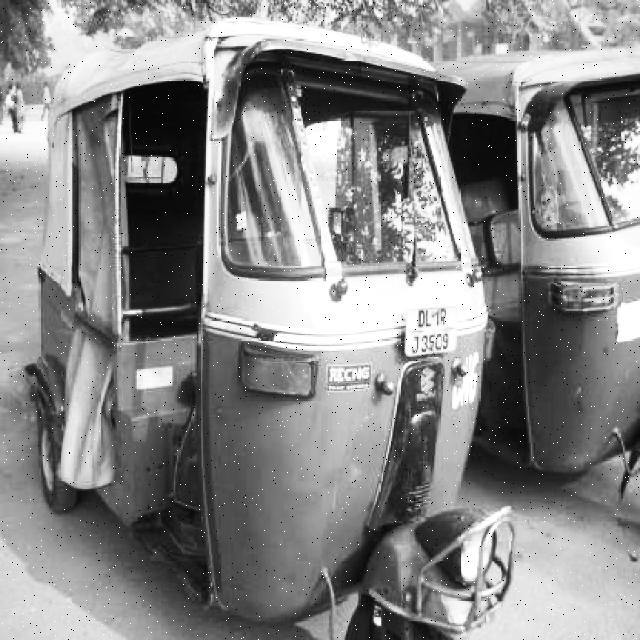Auto-Rickshaw: (37, 28, 526, 624)
